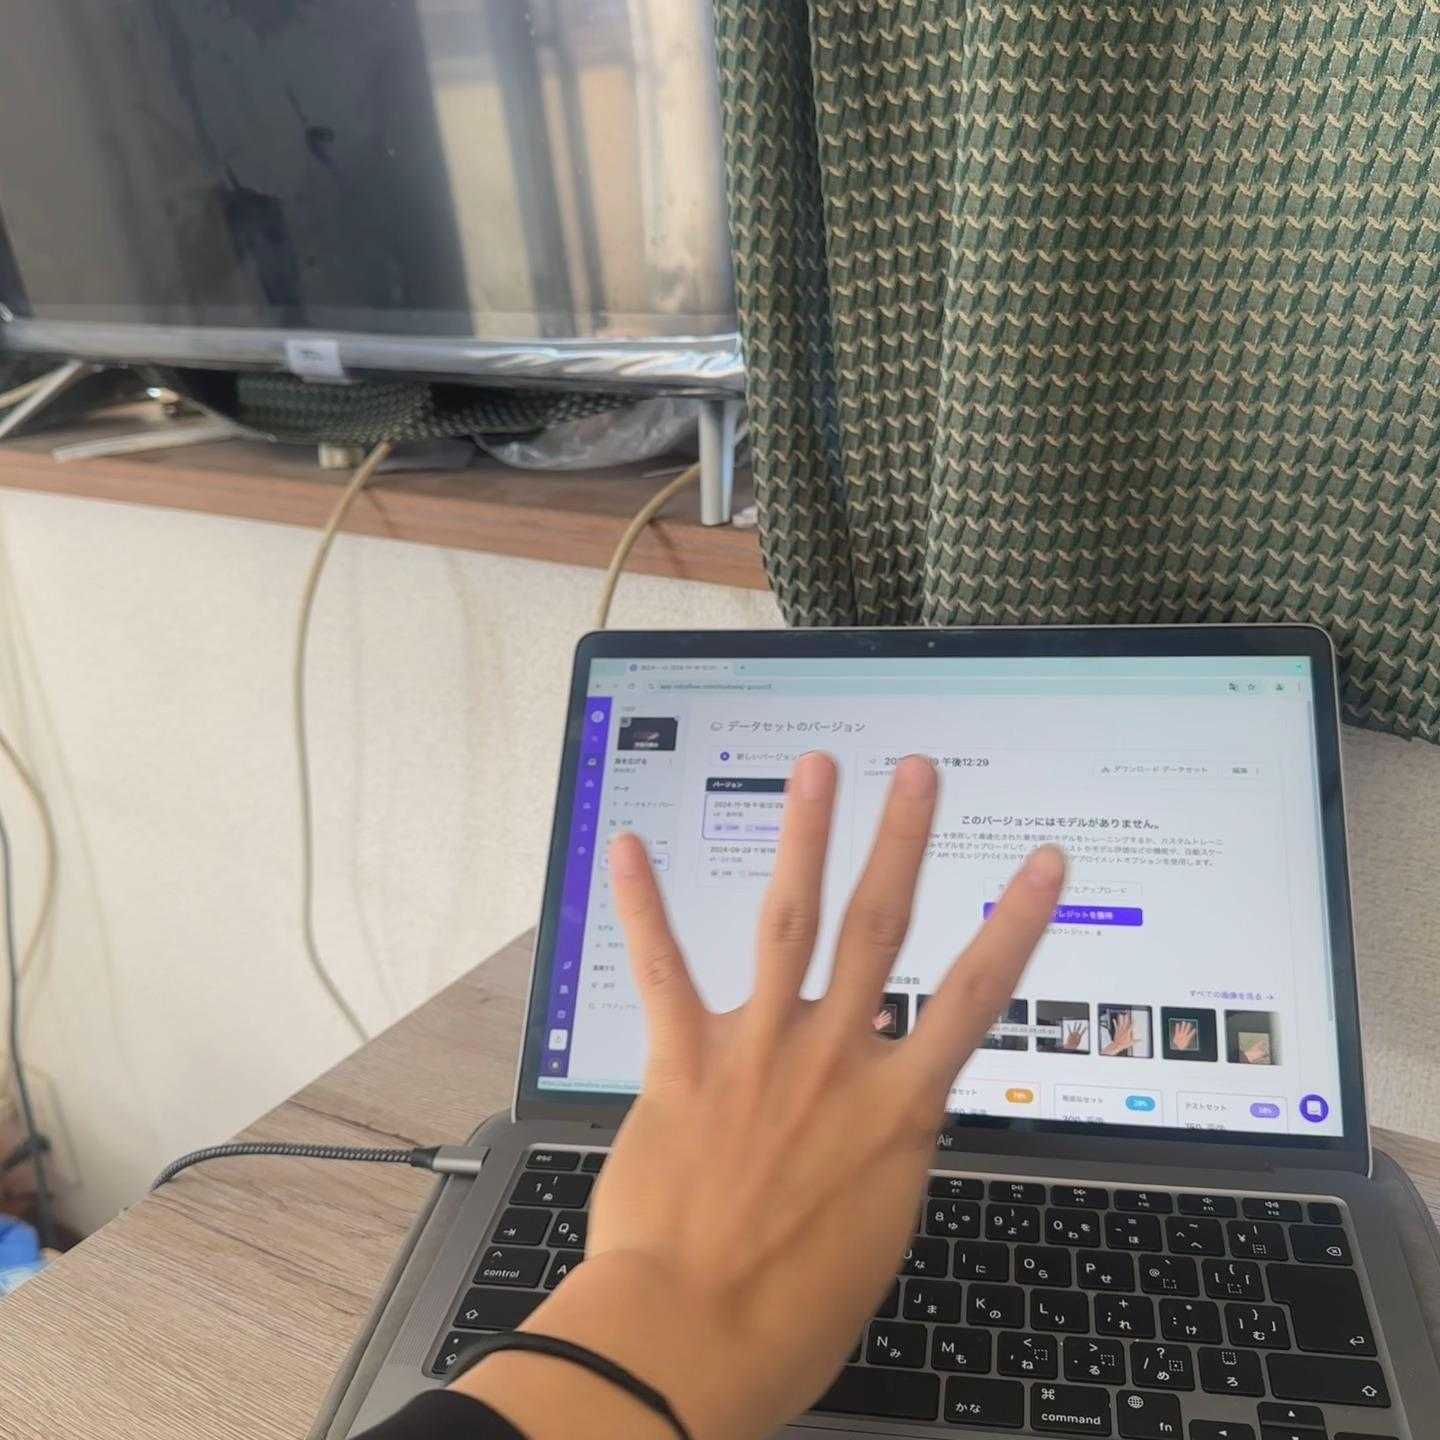without_gloves: (452, 628, 1137, 1440)
